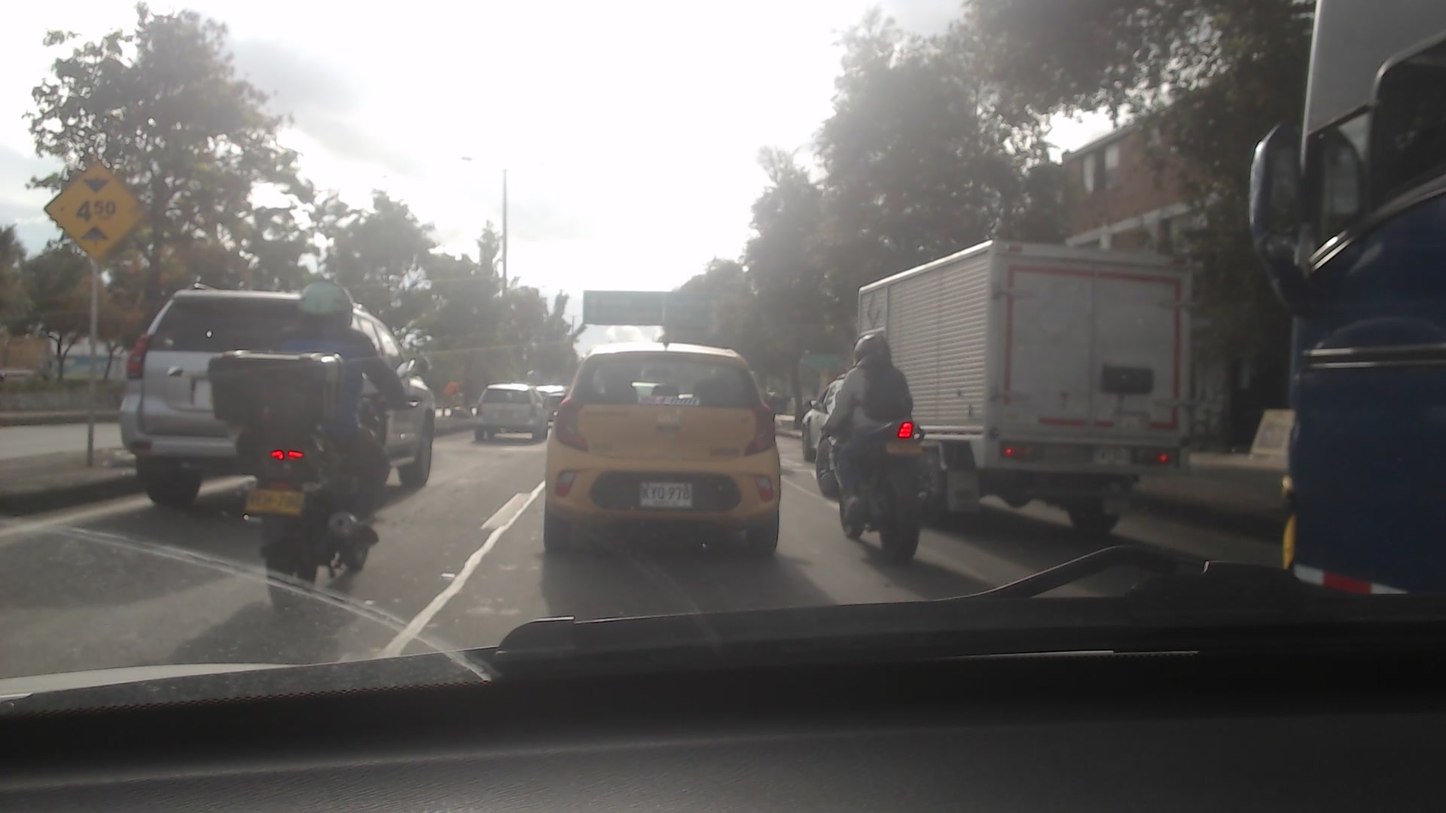car: (542, 339, 786, 556), (466, 384, 557, 446)
motorcycle: (214, 411, 407, 606), (806, 417, 923, 559)
person: (248, 284, 386, 517), (827, 332, 921, 514)
truck: (848, 242, 1196, 527)
